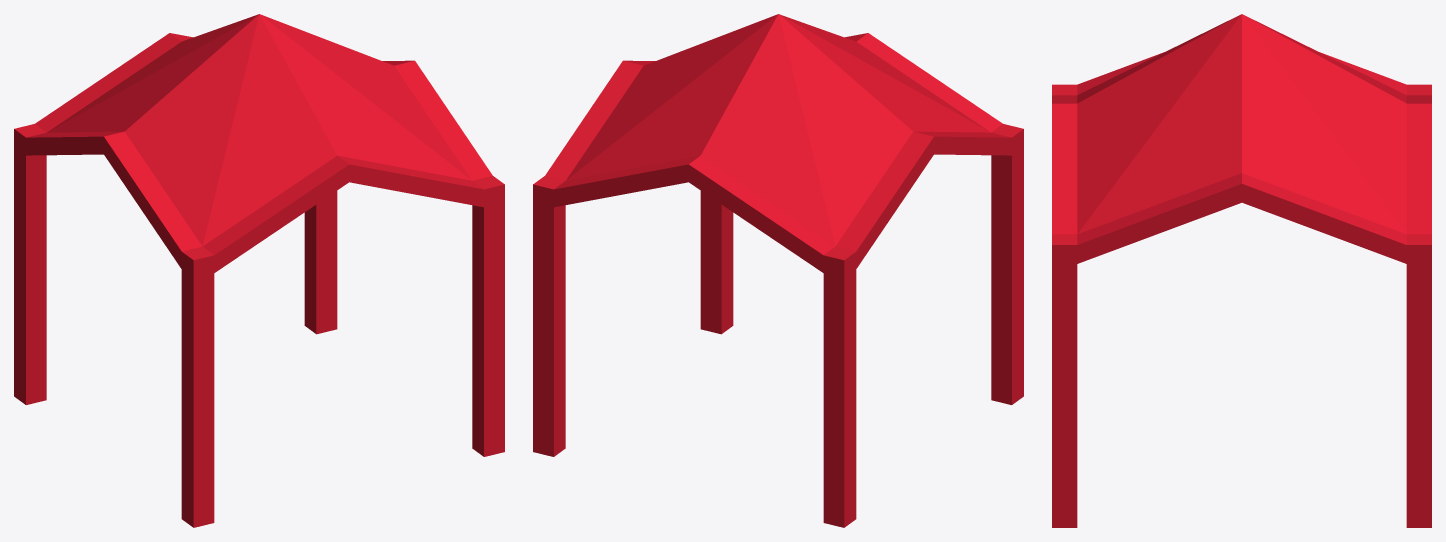
The model's file is Start.fbx.
The picture shows the model from 3 angles, left to right: view 1: azimuth 30°, elevation 25°; view 2: azimuth 150°, elevation 25°; view 3: azimuth 270°, elevation 25°; orthographic projection. The views are drawn at different scales.
Parts seen in each view (by area): view 1: Start; view 2: Start; view 3: Start.
Boxes of the visible parts, x1,y1,x2,y2 form: Start: (14, 14, 504, 527); Start: (533, 14, 1023, 527); Start: (1052, 14, 1431, 527).
Size of the model in its own units: 100 by 126 by 100.
